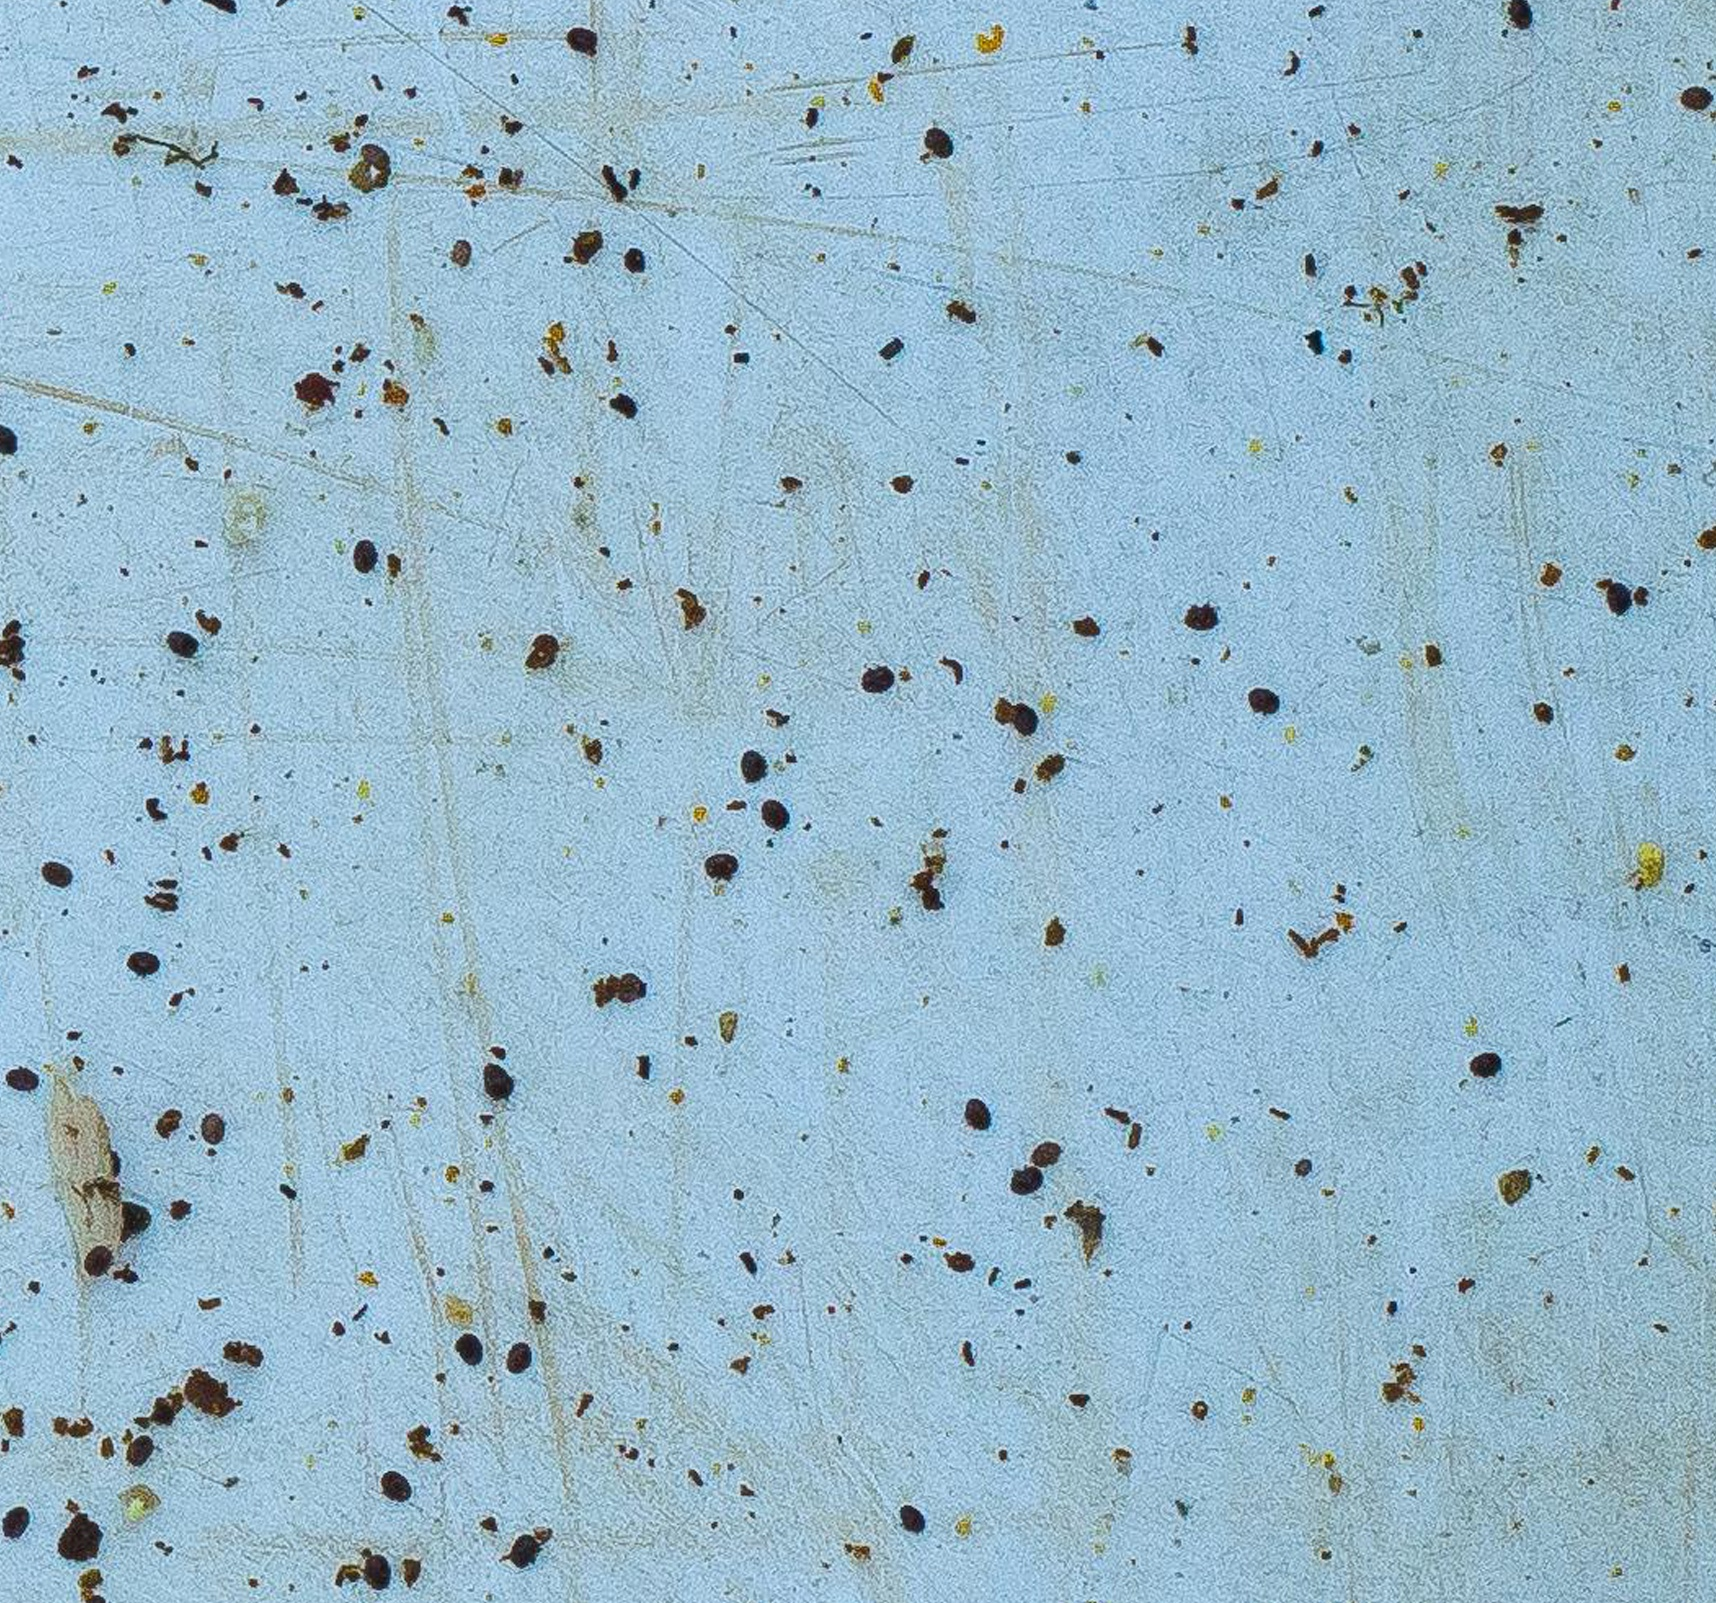Varroa: (914, 121, 961, 167), (1464, 1038, 1511, 1085), (951, 1094, 997, 1140), (502, 1525, 548, 1571), (339, 532, 384, 579), (728, 743, 773, 789), (851, 649, 896, 696), (1240, 676, 1287, 722), (1598, 576, 1645, 621), (698, 842, 744, 887), (72, 1235, 118, 1282), (187, 1107, 234, 1153), (444, 1327, 491, 1372), (1026, 1131, 1073, 1177), (892, 1495, 939, 1540), (357, 1546, 402, 1592), (115, 1425, 161, 1470), (161, 619, 206, 664), (1006, 696, 1052, 741), (750, 792, 795, 838), (33, 850, 78, 895), (118, 937, 163, 982), (491, 1336, 536, 1382), (1000, 1162, 1046, 1207), (378, 1460, 423, 1505), (1180, 594, 1225, 637)
